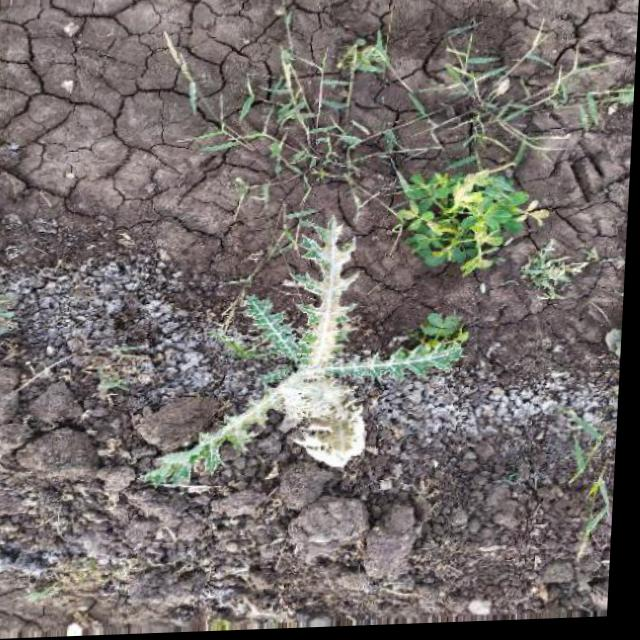weed: (134, 176, 557, 521), (148, 22, 603, 188), (390, 178, 562, 288)
